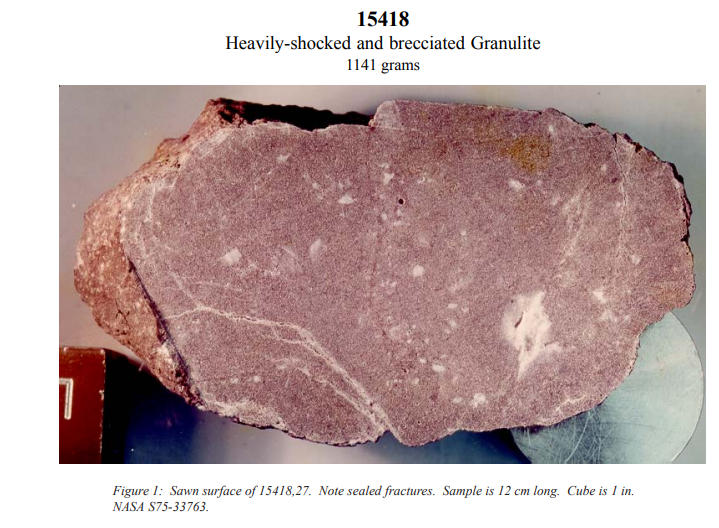Breccia: (57, 86, 706, 464), (144, 180, 599, 380)
